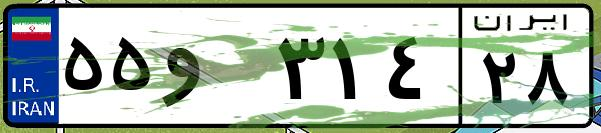1: (330, 28, 385, 110)
2: (475, 38, 525, 113)
3: (270, 28, 330, 110)
4: (385, 28, 445, 110)
5: (57, 26, 110, 100), (110, 28, 158, 98)
8: (525, 38, 570, 115)
و: (158, 20, 270, 120)
